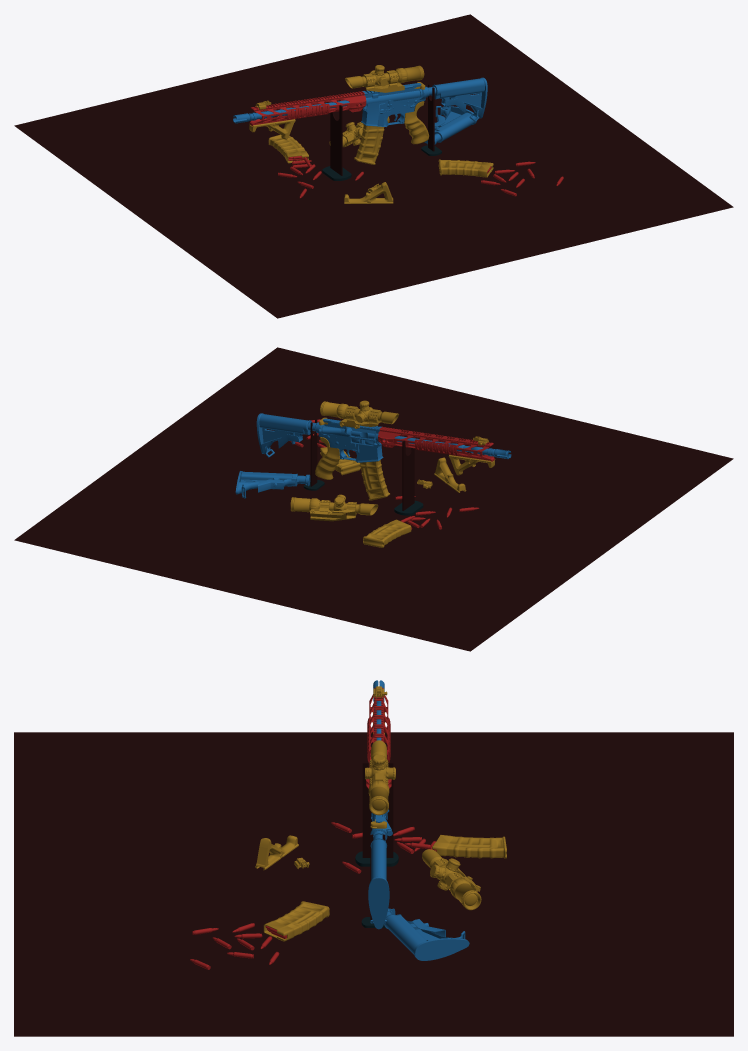
The model's file is AR15 Sketchfab.fbx.
The picture shows the model from 3 angles, top to bottom: view 1: azimuth 30°, elevation 25°; view 2: azimuth 150°, elevation 25°; view 3: azimuth 270°, elevation 25°; orthographic projection. The views are drawn at different scales.
Parts seen in each view (by area): view 1: Plane001, ar114Fifteen_low, Handguard, Scope, Stock, Stock001, mag, mag001, Plane002, mag002, grip, handle001 (+1 smaller); view 2: Plane001, ar114Fifteen_low, Handguard, Scope001, Scope, Stock001, Stock, mag, mag002, Plane002, ar117Fifteen_low, grip; view 3: Plane001, Stock001, Scope001, Scope, mag002, mag001, Plane002, Handguard, Stock, handle001, ar117Fifteen_low.
Part boxes in pixels (x1=…): Plane001: x1=14, y1=14, x2=733, y2=318; ar114Fifteen_low: x1=233, y1=83, x2=426, y2=127; Handguard: x1=249, y1=91, x2=366, y2=126; Scope: x1=345, y1=65, x2=424, y2=92; Stock: x1=425, y1=77, x2=487, y2=121; Stock001: x1=424, y1=106, x2=476, y2=144; mag: x1=354, y1=124, x2=384, y2=164; mag001: x1=438, y1=159, x2=493, y2=177; Plane002: x1=330, y1=102, x2=342, y2=175; mag002: x1=268, y1=134, x2=308, y2=163; grip: x1=404, y1=101, x2=429, y2=144; handle001: x1=344, y1=182, x2=393, y2=203; Plane001: x1=14, y1=347, x2=733, y2=651; ar114Fifteen_low: x1=317, y1=418, x2=511, y2=462; Handguard: x1=378, y1=426, x2=494, y2=461; Scope001: x1=290, y1=494, x2=378, y2=521; Scope: x1=320, y1=400, x2=399, y2=428; Stock001: x1=235, y1=471, x2=310, y2=498; Stock: x1=256, y1=413, x2=318, y2=456; mag: x1=360, y1=460, x2=389, y2=500; mag002: x1=363, y1=519, x2=411, y2=547; Plane002: x1=402, y1=440, x2=414, y2=510; ar117Fifteen_low: x1=257, y1=421, x2=317, y2=454; grip: x1=315, y1=437, x2=339, y2=479; Plane001: x1=14, y1=732, x2=733, y2=1036; Stock001: x1=384, y1=908, x2=469, y2=960; Scope001: x1=422, y1=849, x2=481, y2=910; Scope: x1=365, y1=740, x2=395, y2=815; mag002: x1=432, y1=835, x2=506, y2=858; mag001: x1=263, y1=901, x2=329, y2=941; Plane002: x1=362, y1=762, x2=393, y2=857; Handguard: x1=366, y1=687, x2=391, y2=788; Stock: x1=368, y1=830, x2=389, y2=929; handle001: x1=255, y1=835, x2=298, y2=870; ar117Fifteen_low: x1=368, y1=833, x2=389, y2=917.
Bounding box in the file's own units: 2298 × 468 × 2298.
